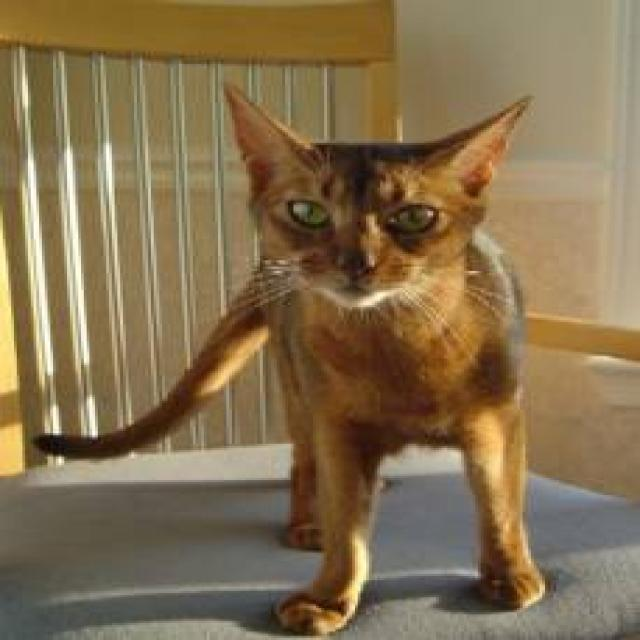Abyssinian: (215, 75, 540, 312)
